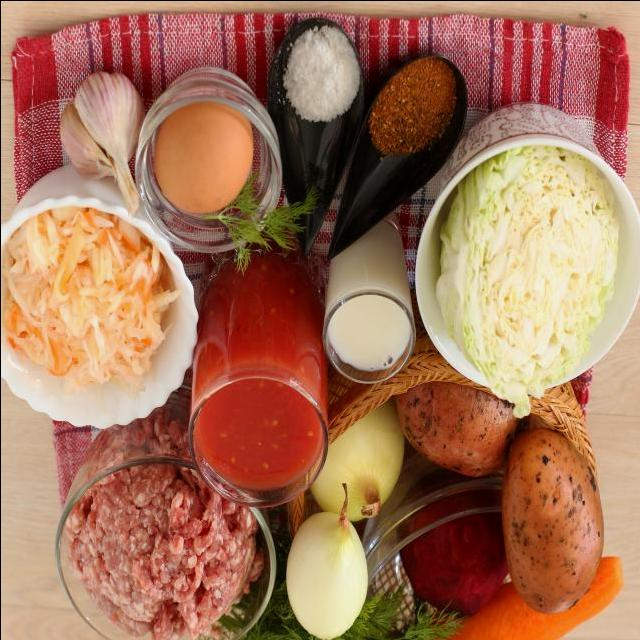cabbage: (455, 172, 597, 371)
carrot: (446, 597, 569, 640)
egg: (154, 104, 250, 228)
garlic: (58, 66, 138, 177)
onion: (285, 510, 371, 640), (310, 417, 403, 511)
potato: (512, 447, 599, 594), (420, 389, 494, 464)
